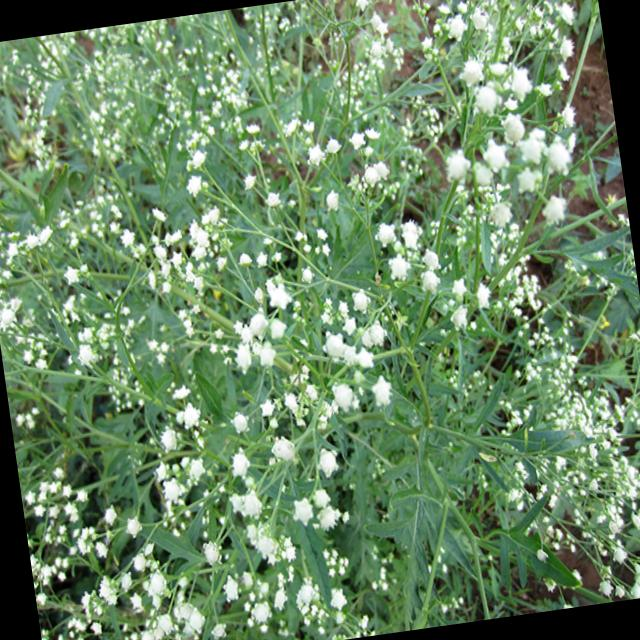Poisonous-Parthenium: (0, 207, 436, 640), (353, 0, 637, 314), (23, 5, 290, 252), (448, 327, 640, 620)
